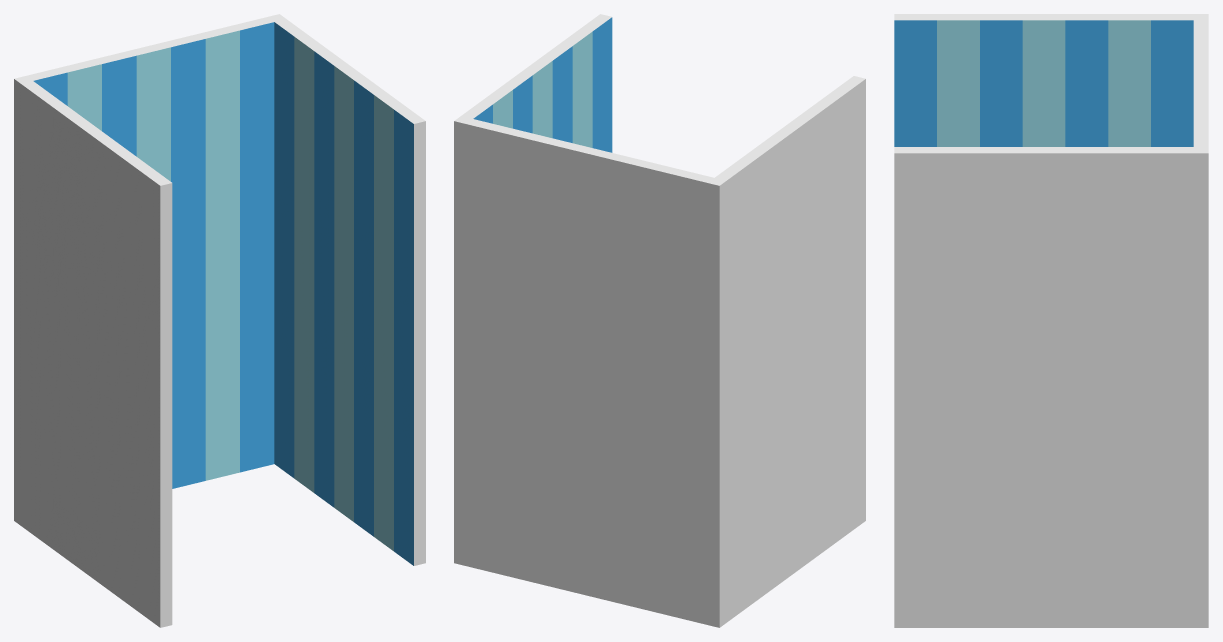
File: Prop_WallCShape_02.fbx
3 views of the same model, side by side, from view 1: azimuth 30°, elevation 25°; view 2: azimuth 150°, elevation 25°; view 3: azimuth 270°, elevation 25° (orthographic). The views are drawn at different scales.
Parts seen in each view (by area): view 1: Prop_WallCShape_02; view 2: Prop_WallCShape_02; view 3: Prop_WallCShape_02.
Boxes of the visible parts, left/top/right/bottom form: Prop_WallCShape_02: left=14, top=14, right=425, bottom=627; Prop_WallCShape_02: left=454, top=14, right=865, bottom=627; Prop_WallCShape_02: left=894, top=14, right=1208, bottom=627.
Bounding box in the file's own units: 220 × 350 × 210.
